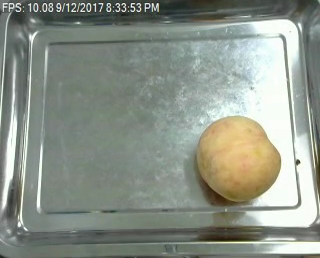Peach: (195, 114, 281, 201)
